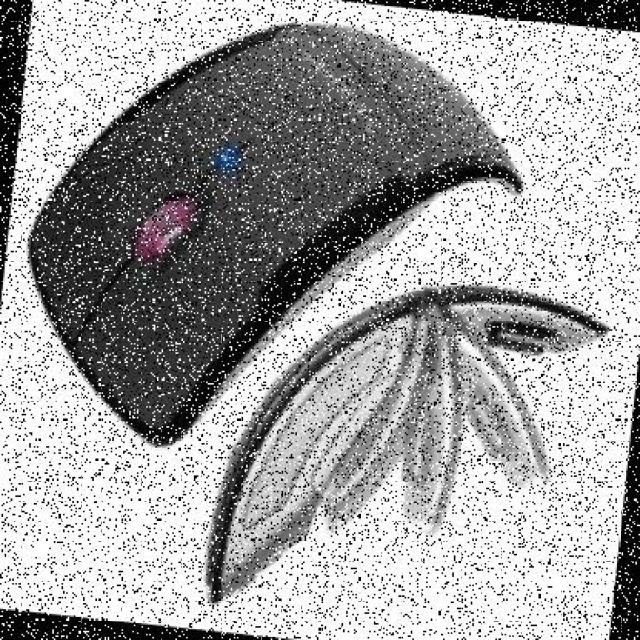mause: (0, 0, 571, 577)
